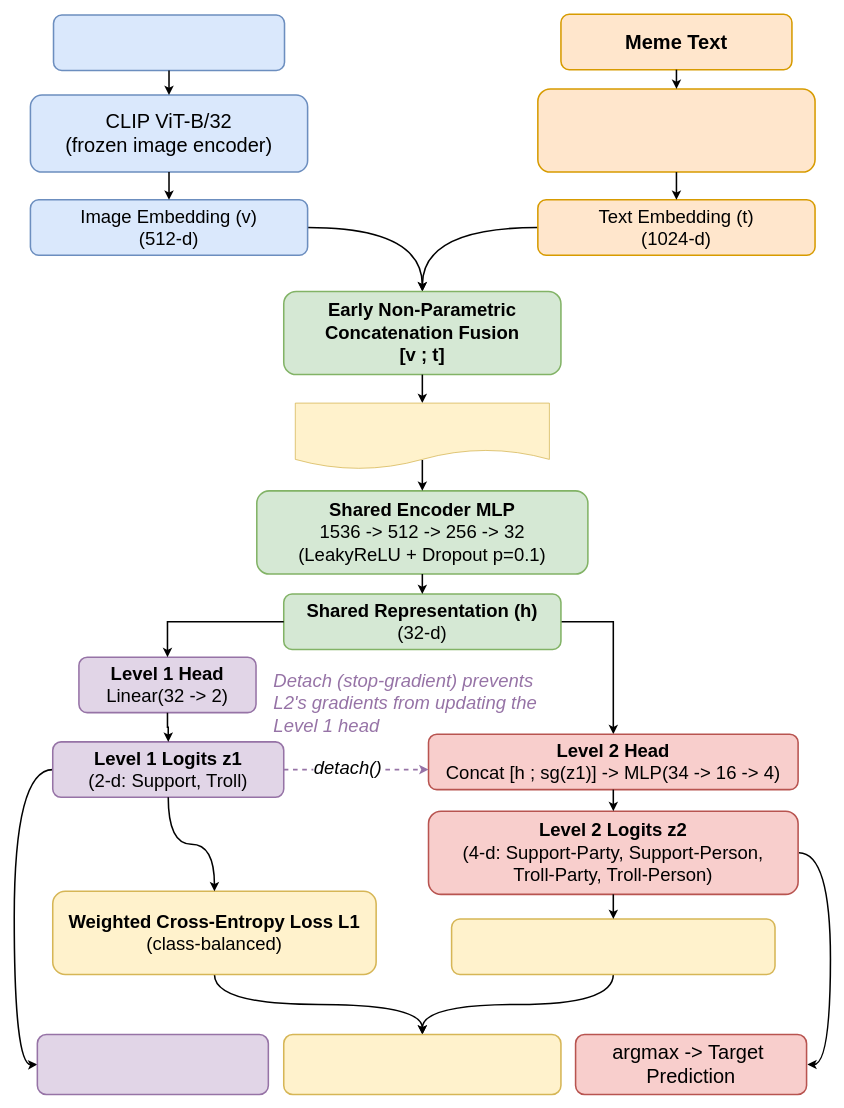
The diagram is 844 pixels wide and 1108 high, and some of its shapes have lost their labels. Each missing label, with the centre of its shape:
"argmax -> Stance Prediction" goes at point (152, 1064).
"BAAI/bge-m3 (frozen multilingual text encoder)" goes at point (676, 130).
"Fused Feature Vector (x) (1536-d)" goes at point (422, 435).
"Meme Image" goes at point (168, 42).
"Total Loss = L1 + L2 (single joint backward pass)" goes at point (422, 1064).
"Weighted Cross-Entropy Loss L2 (class-balanced)" goes at point (612, 946).
